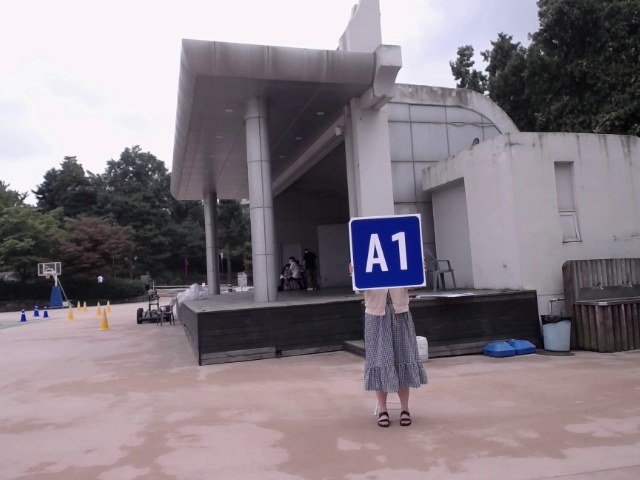delivery_a1: (349, 214, 425, 291)
